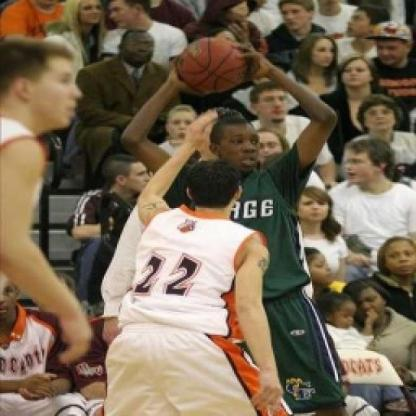basketball: (175, 31, 256, 102)
